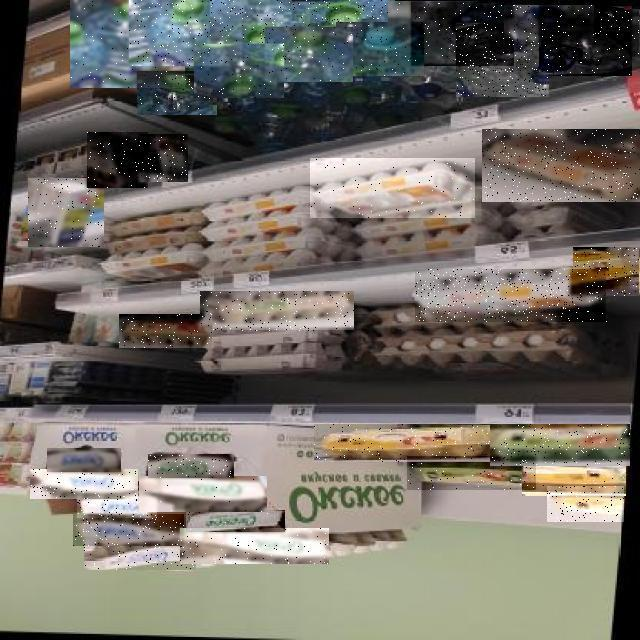Eggs: (482, 129, 640, 202), (416, 269, 608, 322), (70, 0, 185, 88), (310, 159, 475, 219), (129, 0, 242, 66), (314, 424, 498, 462), (456, 23, 549, 97), (539, 6, 632, 76), (411, 3, 514, 66), (200, 292, 354, 332), (490, 425, 630, 467), (210, 0, 315, 54), (180, 528, 329, 564), (28, 178, 104, 247), (194, 45, 284, 99), (265, 27, 353, 82), (336, 22, 424, 76), (139, 476, 267, 512), (407, 456, 536, 490), (522, 459, 626, 496), (292, 0, 395, 35), (84, 539, 196, 571), (73, 514, 184, 546), (137, 71, 217, 115), (88, 132, 150, 188), (504, 6, 594, 44), (30, 469, 138, 499), (573, 247, 639, 296), (119, 314, 212, 348), (547, 486, 624, 522), (143, 135, 189, 183), (186, 510, 285, 532), (148, 454, 234, 478), (388, 2, 477, 24), (47, 448, 121, 472), (77, 497, 157, 519), (630, 9, 639, 57)
